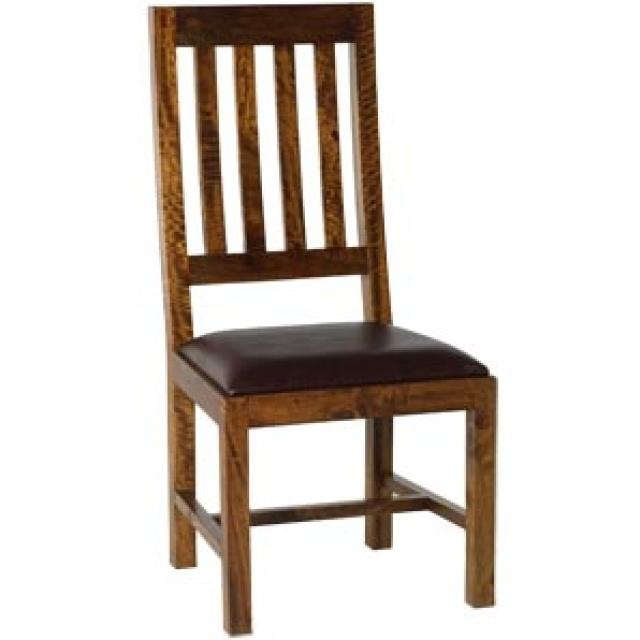chair: (144, 1, 500, 640)
